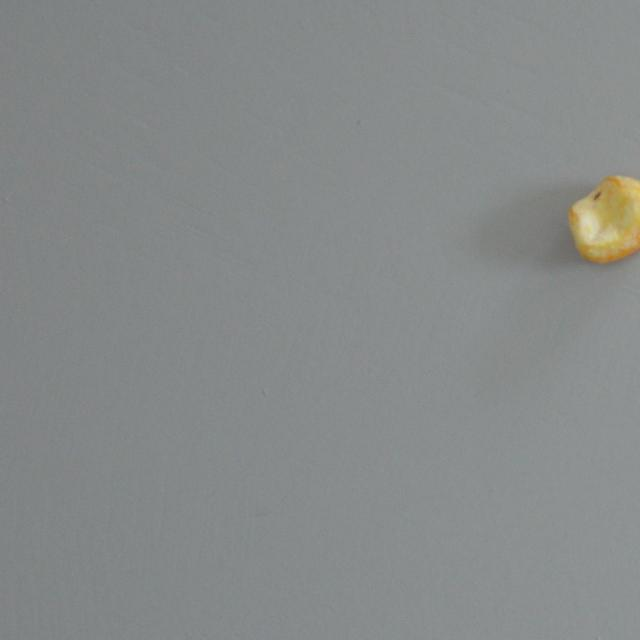punto_negro: (567, 174, 640, 264)
